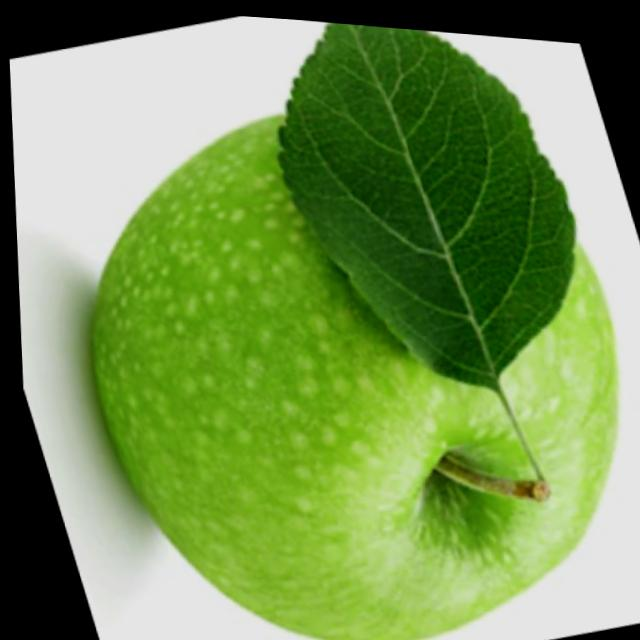organik: (57, 36, 640, 640)
